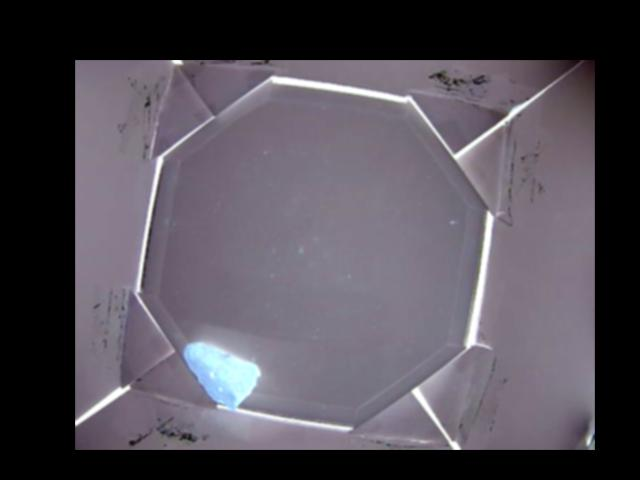Brisk: (184, 341, 260, 410)
